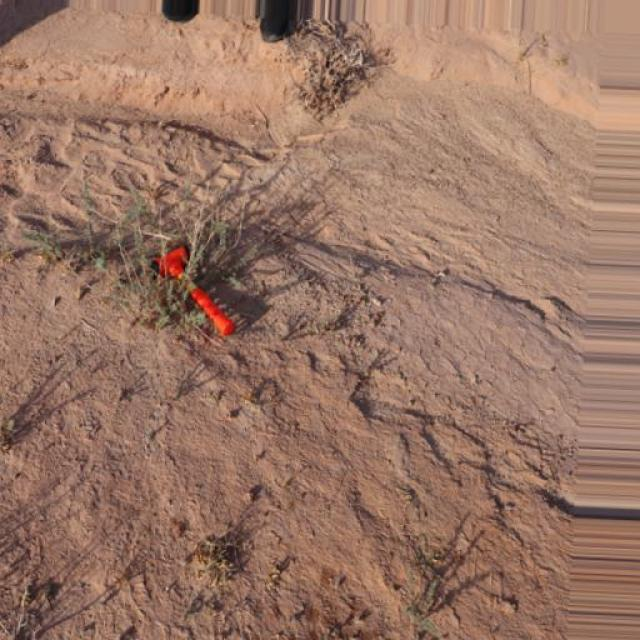mallet: (150, 242, 236, 336)
